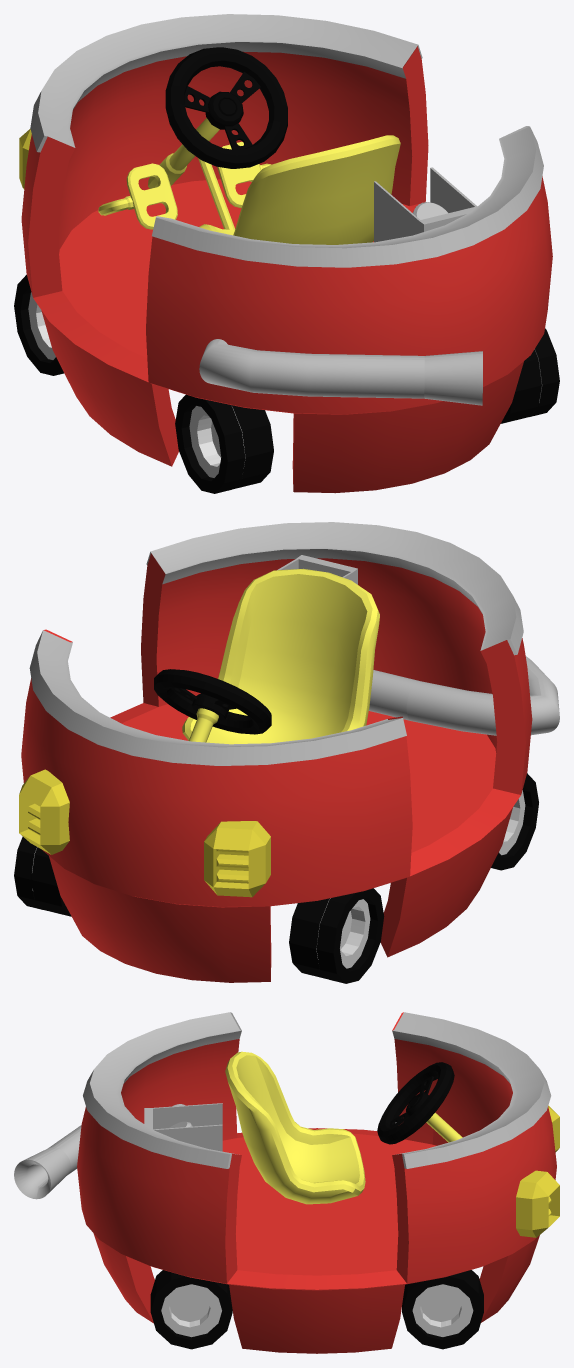
The model's file is kart03.fbx.
3 views of the same model, one above another, from view 1: azimuth 30°, elevation 25°; view 2: azimuth 150°, elevation 25°; view 3: azimuth 270°, elevation 25° (orthographic). The views are drawn at different scales.
Visible parts, largest first — view 1: Sphere.001, Kart_Body.001, Plane.001, Cylinder, Cube.001; view 2: Sphere.001, Kart_Body.001, Plane.001, Cube, Cylinder, Cube.001; view 3: Sphere.001, Kart_Body.001, Plane.001, Cube.001, Cube, Cylinder.
Part boxes in pixels (x1,y1,x2,y2): Sphere.001: (21, 14, 552, 493); Kart_Body.001: (98, 47, 400, 244); Plane.001: (14, 275, 559, 493); Cylinder: (199, 339, 482, 405); Cube.001: (374, 167, 477, 242); Sphere.001: (21, 522, 532, 982); Kart_Body.001: (154, 568, 379, 744); Plane.001: (14, 773, 538, 983); Cube: (19, 769, 270, 897); Cylinder: (369, 656, 559, 735); Cube.001: (277, 555, 357, 584); Sphere.001: (77, 1012, 556, 1353); Kart_Body.001: (225, 1051, 462, 1204); Plane.001: (150, 1270, 483, 1349); Cube.001: (144, 1103, 222, 1151); Cube: (516, 1105, 559, 1237); Cylinder: (14, 1104, 185, 1199).
Bounding box in the file's own units: 147 × 94.41 × 210.
